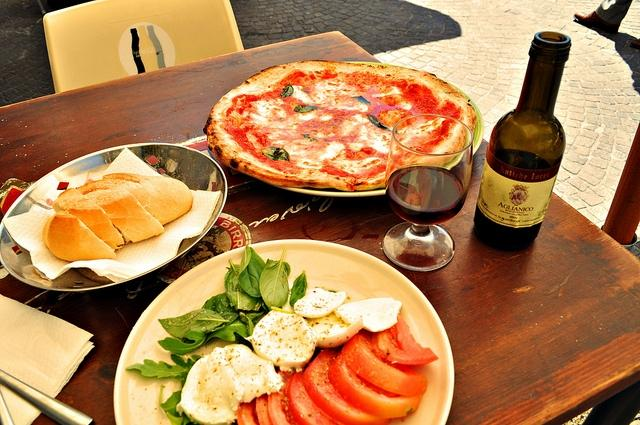tomato: (303, 348, 393, 425), (328, 352, 421, 419), (340, 329, 428, 396), (372, 314, 439, 366), (286, 371, 342, 425), (266, 370, 300, 425), (237, 397, 260, 425), (255, 393, 271, 423)
